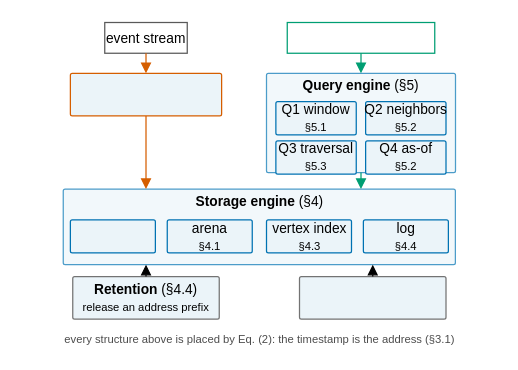
This 518x370 diagram has some shape labels left out. The shapes that lost their labels are listed below. From the top down, each one's centre as x and y in pixels, then its label:
(x=360, y=37): temporal queries Q1–Q4
(x=145, y=94): Ingest path (§4.2) shift, claim run, publish
(x=112, y=235): timeline §4.1
(x=372, y=297): Recovery (§4.4) replay the log through ingest
